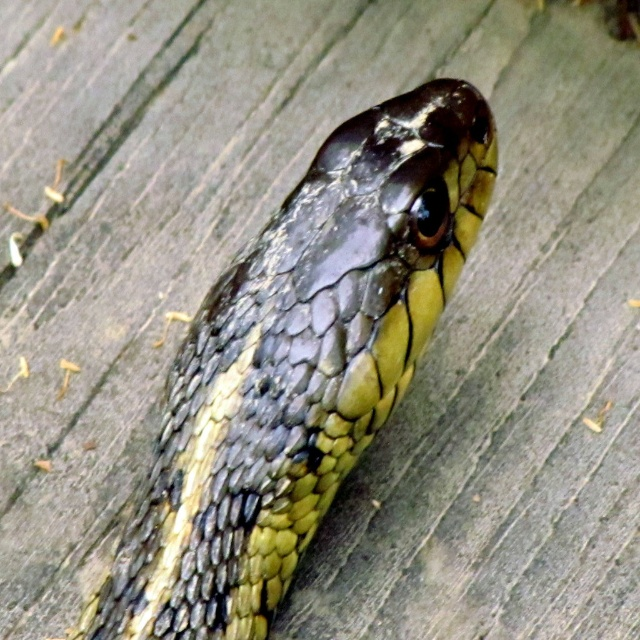Snake: (63, 78, 499, 640)
